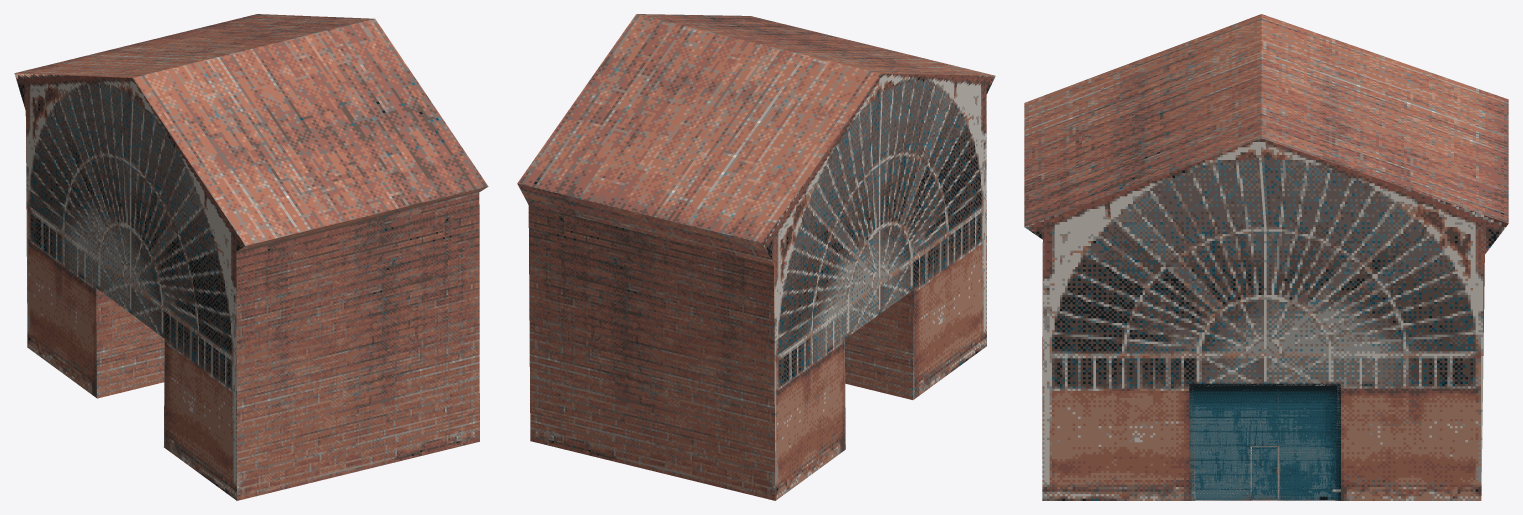
Rendered from Warehouse.glb.
The picture shows the model from 3 angles, left to right: view 1: azimuth 30°, elevation 25°; view 2: azimuth 150°, elevation 25°; view 3: azimuth 270°, elevation 25°; orthographic projection. The views are drawn at different scales.
Visible parts, largest first — view 1: Warehouse; view 2: Warehouse; view 3: Warehouse, Warehouse Door.
Boxes of the visible parts, x1=… form: Warehouse: x1=14, y1=14, x2=488, y2=500; Warehouse: x1=517, y1=14, x2=995, y2=500; Warehouse: x1=1024, y1=14, x2=1508, y2=500; Warehouse Door: x1=1189, y1=383, x2=1340, y2=500.
Size of the model in its own units: 6.62 by 9.02 by 10.91.
Materials: 1 (1 with a texture image).
